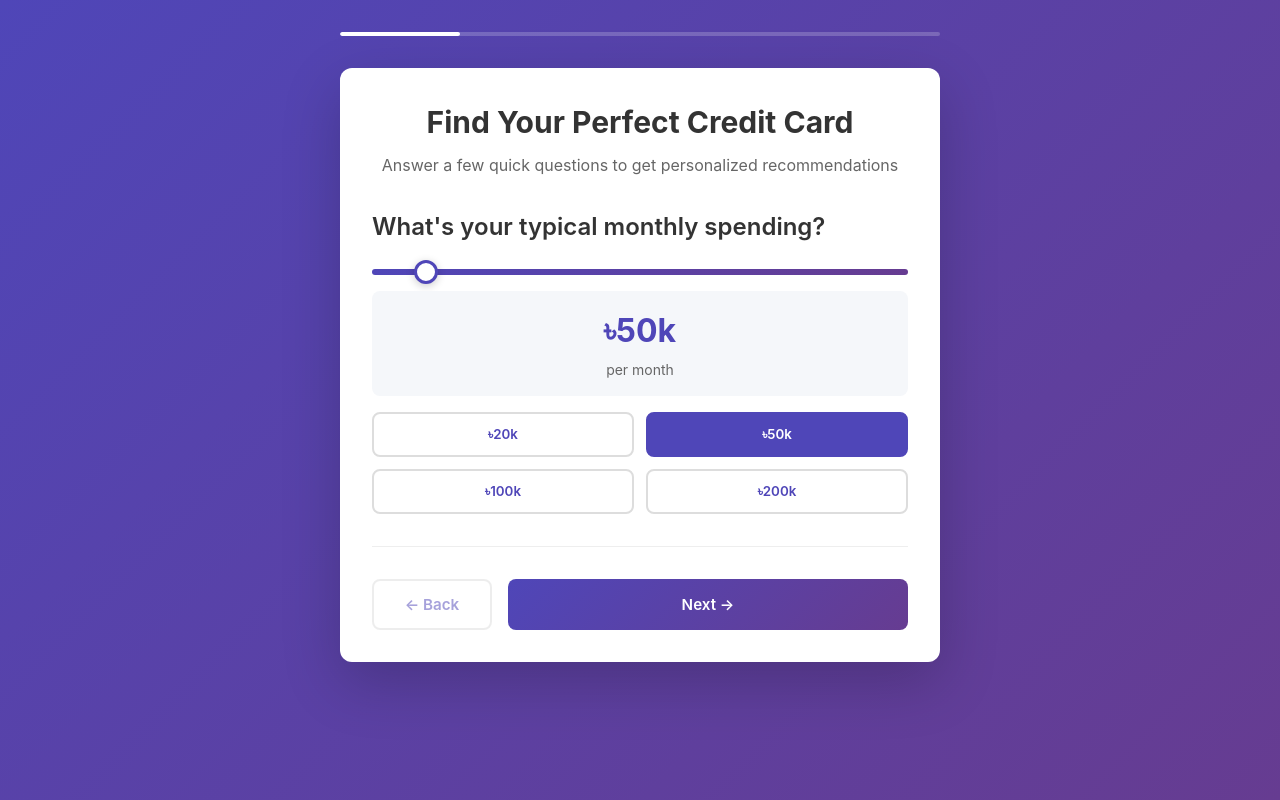
Test: RecommendationQuiz › Results Display › shows action buttons on results step
Expected: the heading "What's your typical monthly spending?" is shown, left=372, top=212, right=825, bottom=241
Step 1. Click the button "Next →" → {"x": 708, "y": 604}, box left=508, top=579, right=908, bottom=630
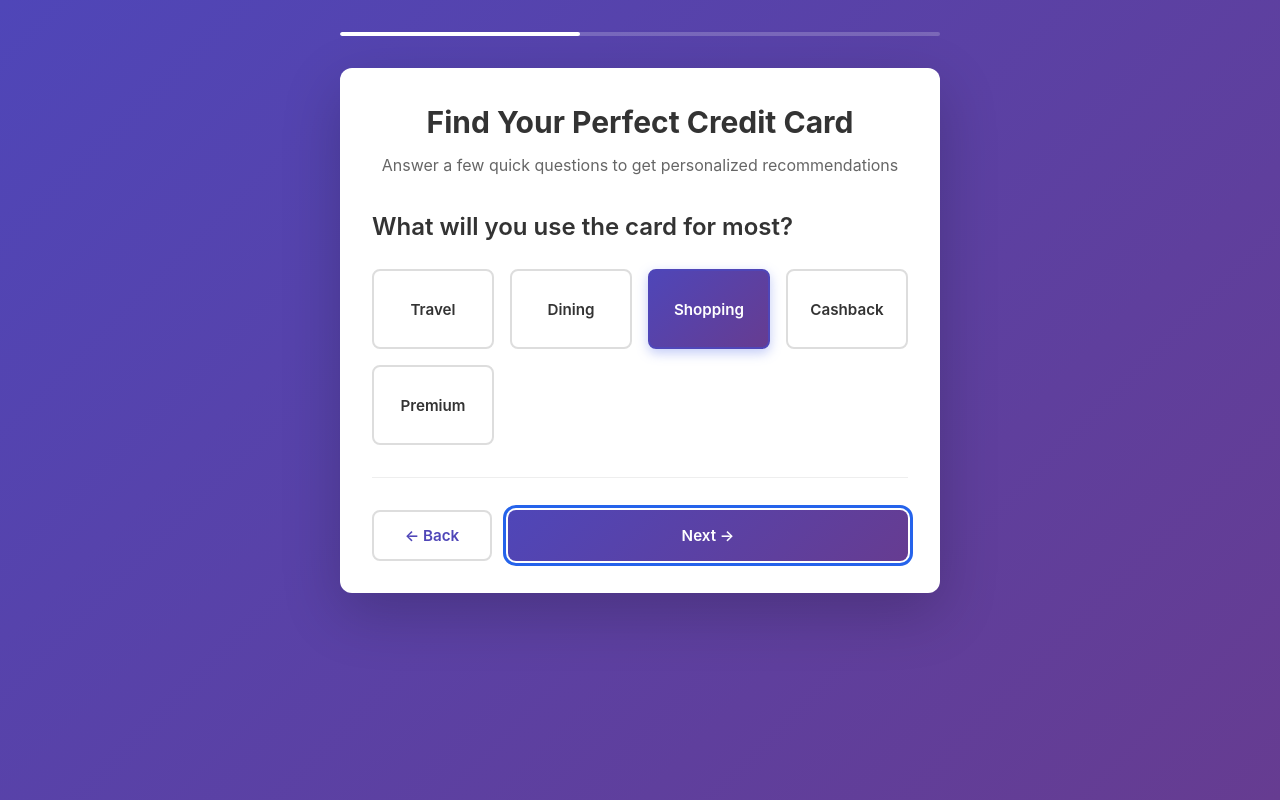
Step 2. Click the button "Next →" → {"x": 708, "y": 536}, box left=508, top=510, right=908, bottom=561
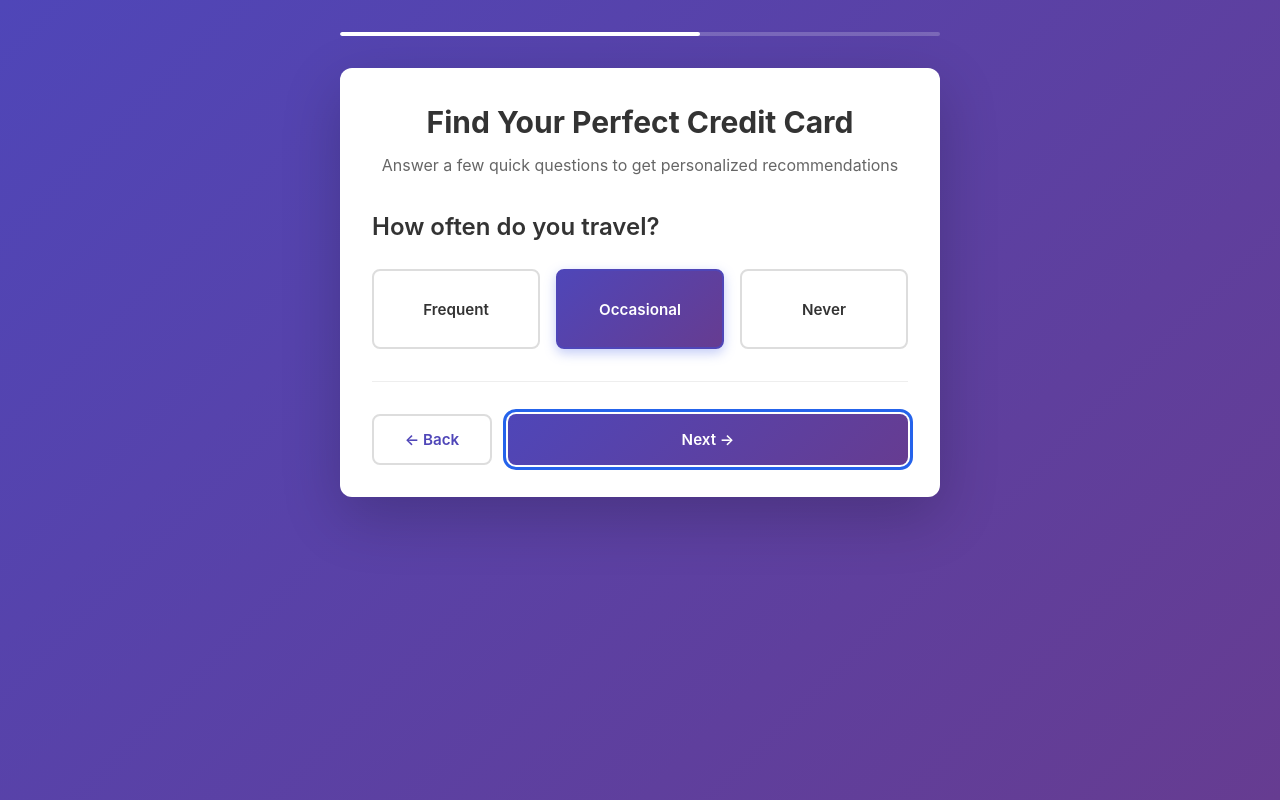
Step 3. Click the button "Next →" → {"x": 708, "y": 440}, box left=508, top=414, right=908, bottom=465
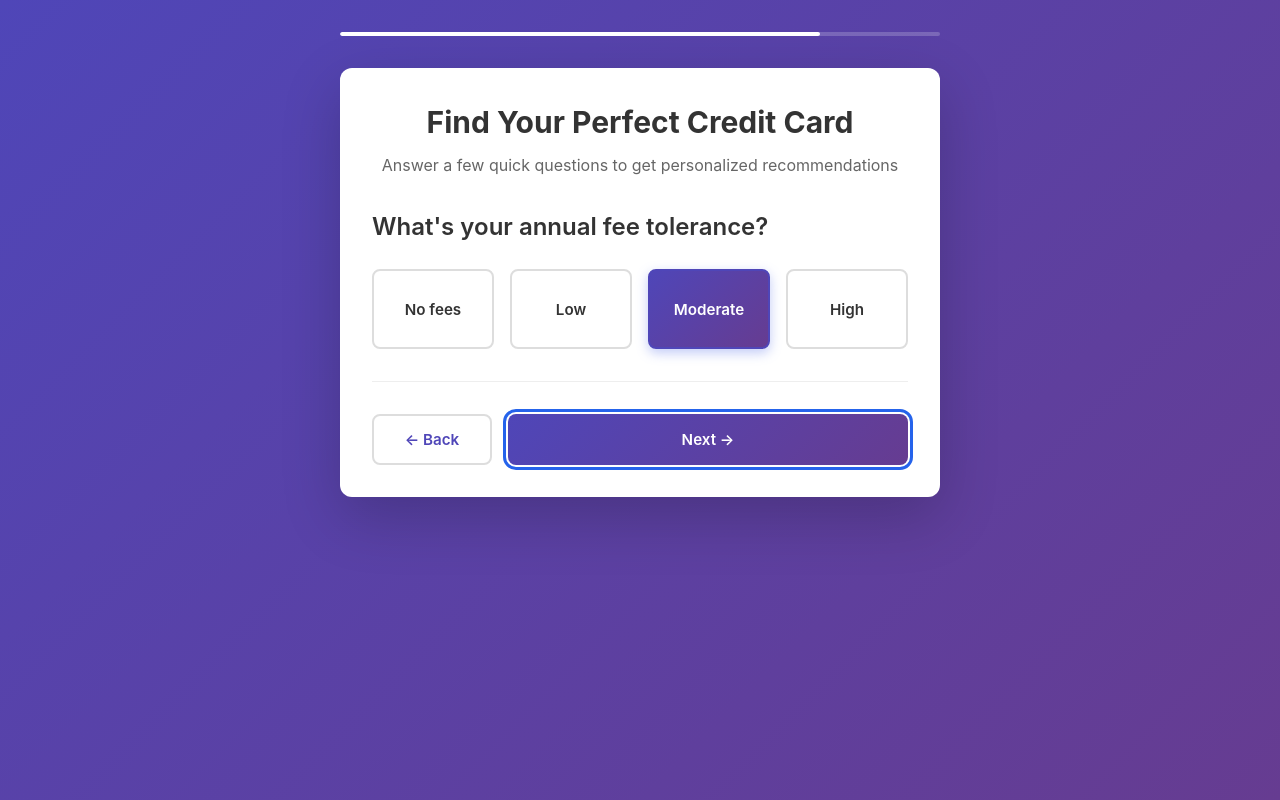
Step 4. Click the button "Next →" → {"x": 708, "y": 440}, box left=508, top=414, right=908, bottom=465
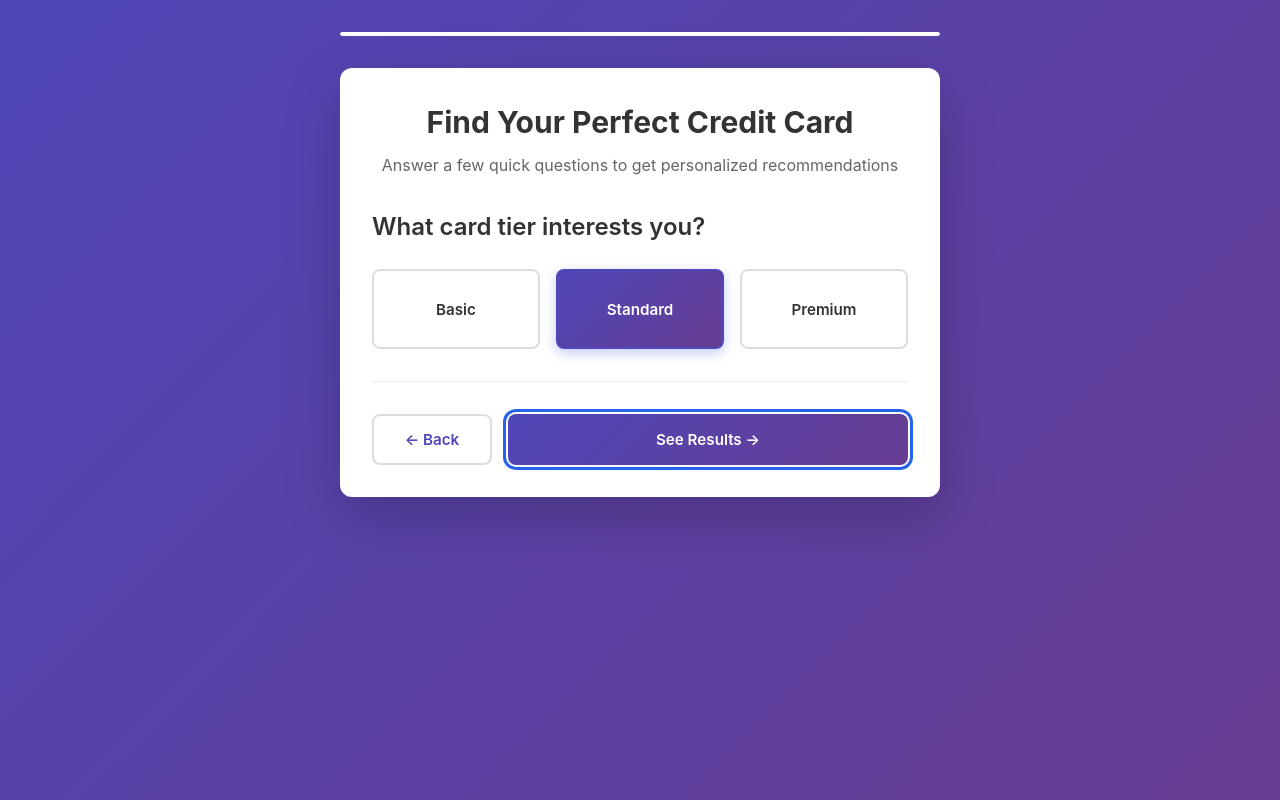
Step 5. Click the button "See Results →" → {"x": 708, "y": 440}, box left=508, top=414, right=908, bottom=465
(page scrolled)
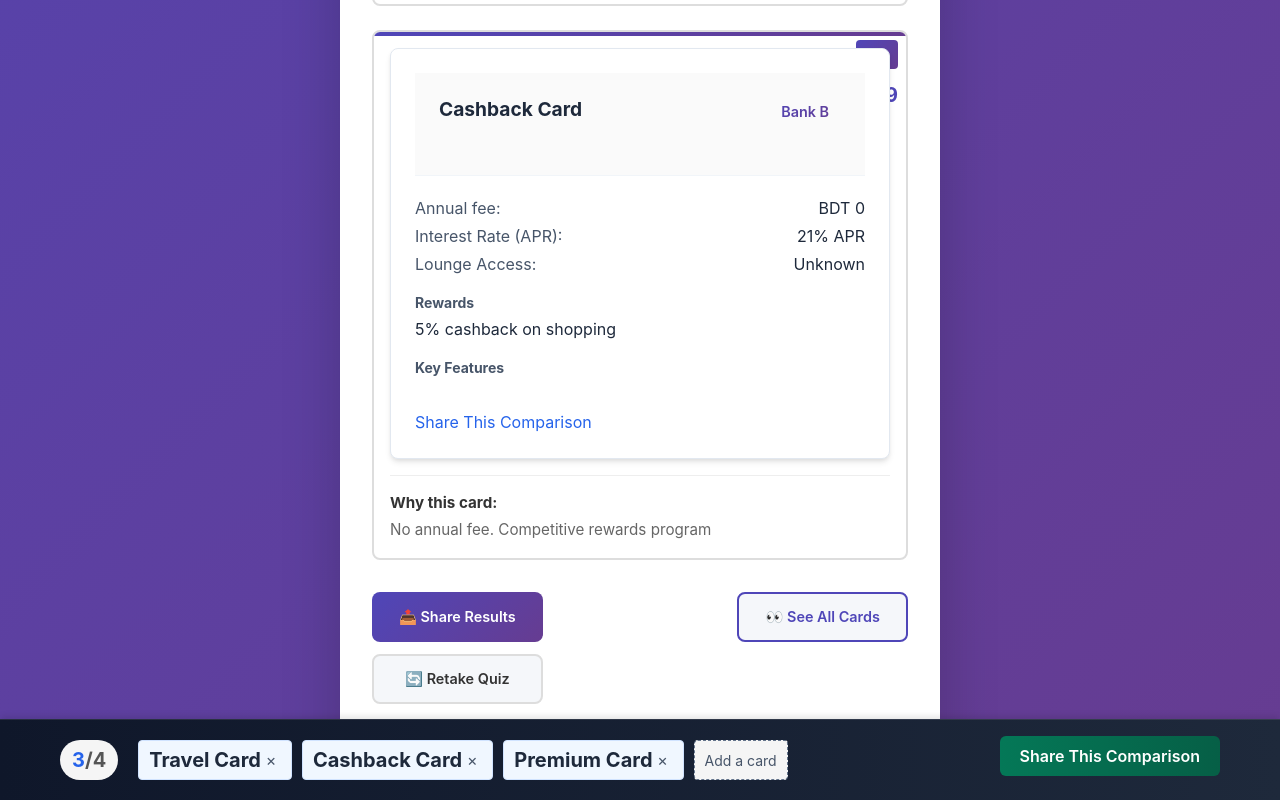
Now the button "📤 Share Results" is shown, box left=372, top=592, right=543, bottom=642
Now the button "👀 See All Cards" is shown, box left=737, top=592, right=908, bottom=642
Now the button "🔄 Retake Quiz" is shown, box left=372, top=654, right=543, bottom=704
